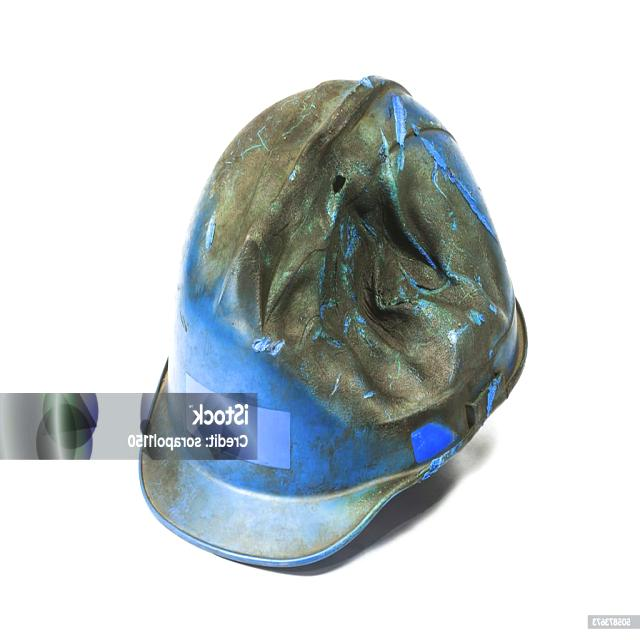BrokenHelmet: (168, 75, 528, 422)
